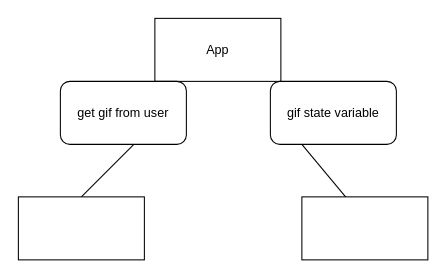
Some shapes in this 446 by 278 pixel diagram are drawn without their labels. Here are the shapes that lost their labels. From the top down, the centre of each, then its label:
At point 80,228: "Form".
At point 364,228: "Display Gif".
